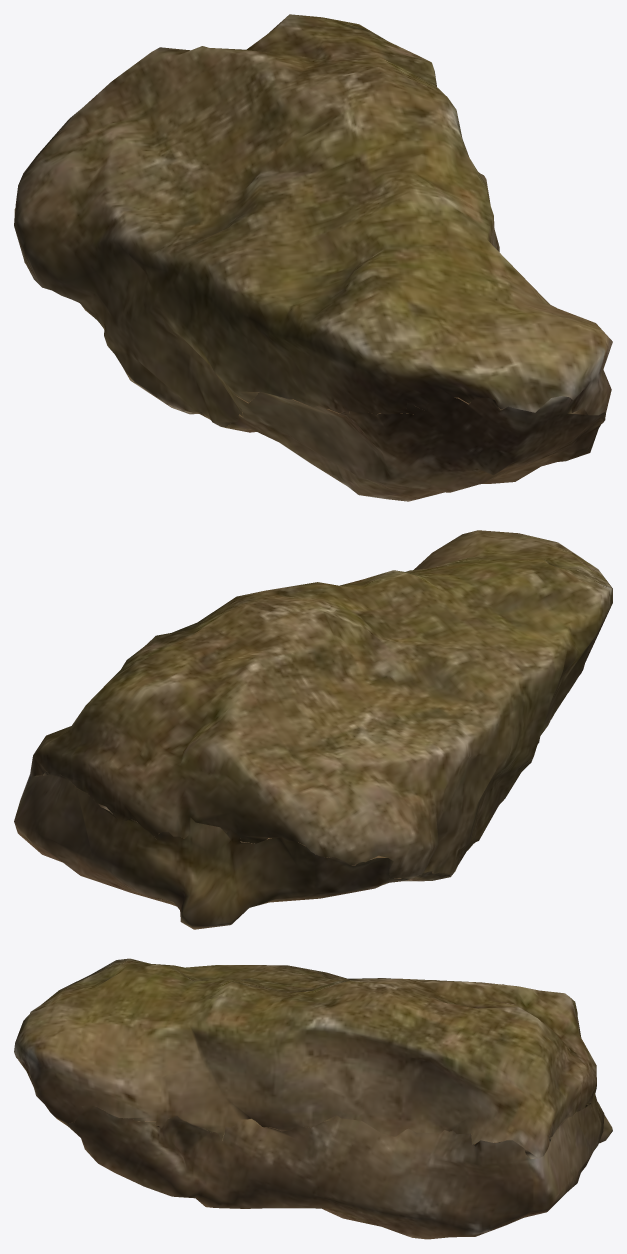
Rendered from pr_moss_a_03.fbx.
The picture shows the model from 3 angles, top to bottom: view 1: azimuth 30°, elevation 25°; view 2: azimuth 150°, elevation 25°; view 3: azimuth 270°, elevation 25°; orthographic projection. The views are drawn at different scales.
Visible parts, largest first — view 1: pr_moss_a_03_LOD0; view 2: pr_moss_a_03_LOD0; view 3: pr_moss_a_03_LOD0.
Boxes of the visible parts, x1,y1,x2,y2 form: pr_moss_a_03_LOD0: [14, 14, 612, 501]; pr_moss_a_03_LOD0: [14, 530, 612, 929]; pr_moss_a_03_LOD0: [14, 958, 612, 1239].
Size of what is drawn, in the model's own units: 1.82 by 1.21 by 3.
